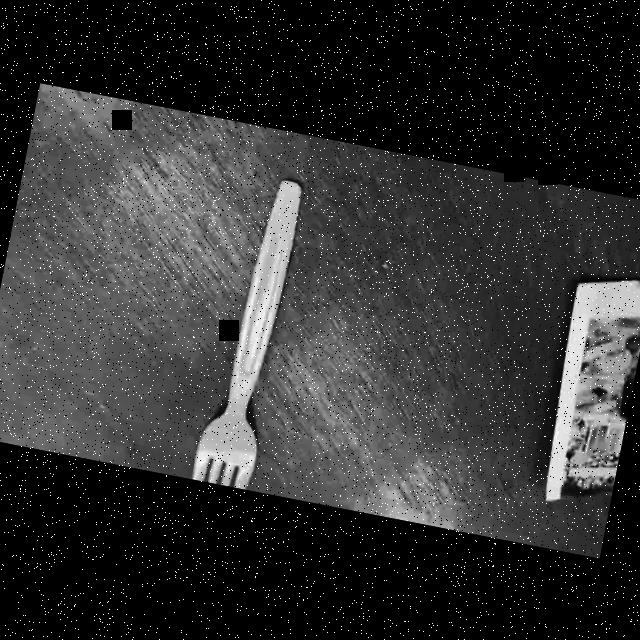plastic_cultery: (190, 170, 310, 488)
